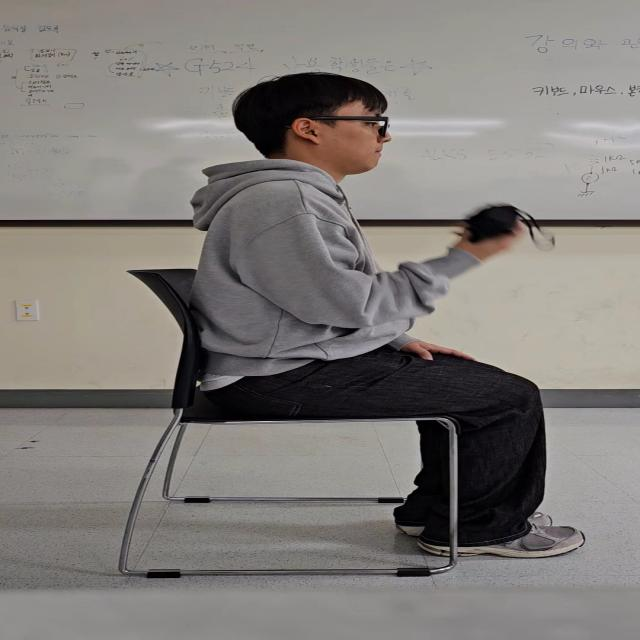curl: (243, 190, 509, 334)
